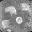people: (5, 6, 17, 17), (1, 20, 11, 28), (16, 16, 23, 24)
